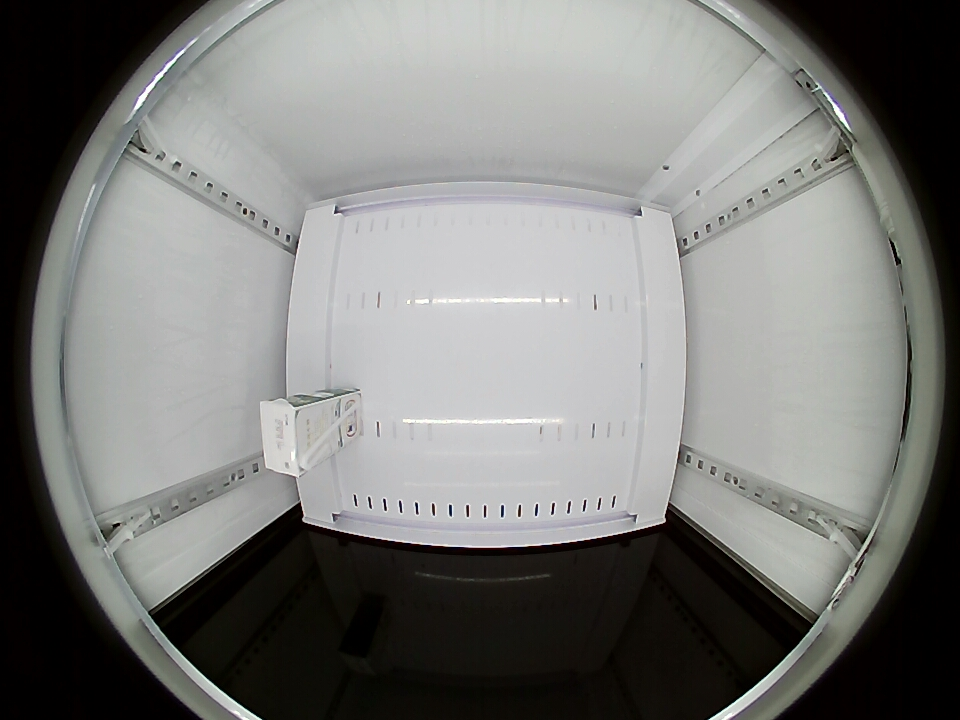jindian: (259, 396, 320, 477)
